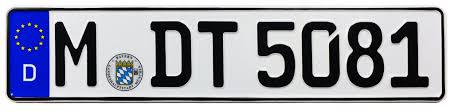0: (301, 20, 341, 89)
1: (390, 20, 430, 89)
5: (255, 20, 297, 89)
8: (346, 20, 385, 89)
D: (149, 19, 193, 88)
M: (53, 20, 100, 88)
T: (196, 19, 240, 89)
